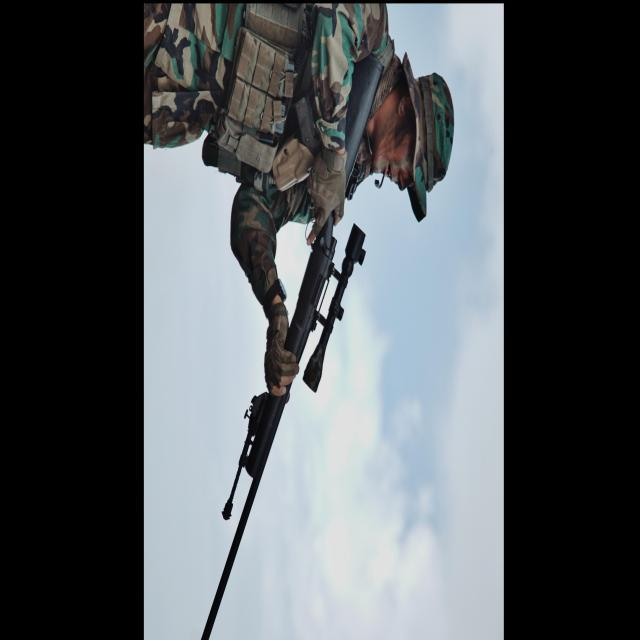weapon: (201, 49, 384, 640)
